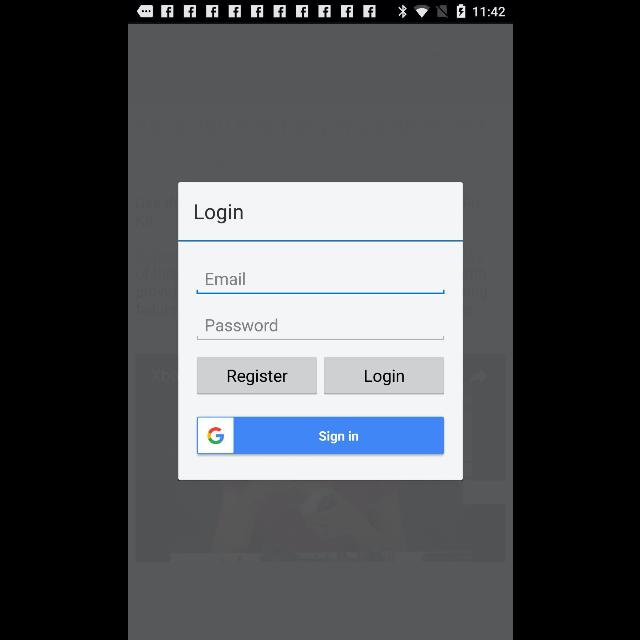input: (196, 318, 444, 340), (196, 272, 444, 294)
panel: (178, 182, 462, 480)
text: (205, 318, 277, 332), (194, 204, 242, 223), (206, 272, 244, 286)
textbutton: (196, 416, 444, 454), (323, 357, 443, 395), (196, 357, 316, 395)
uppertaskbar: (128, 1, 512, 23)
